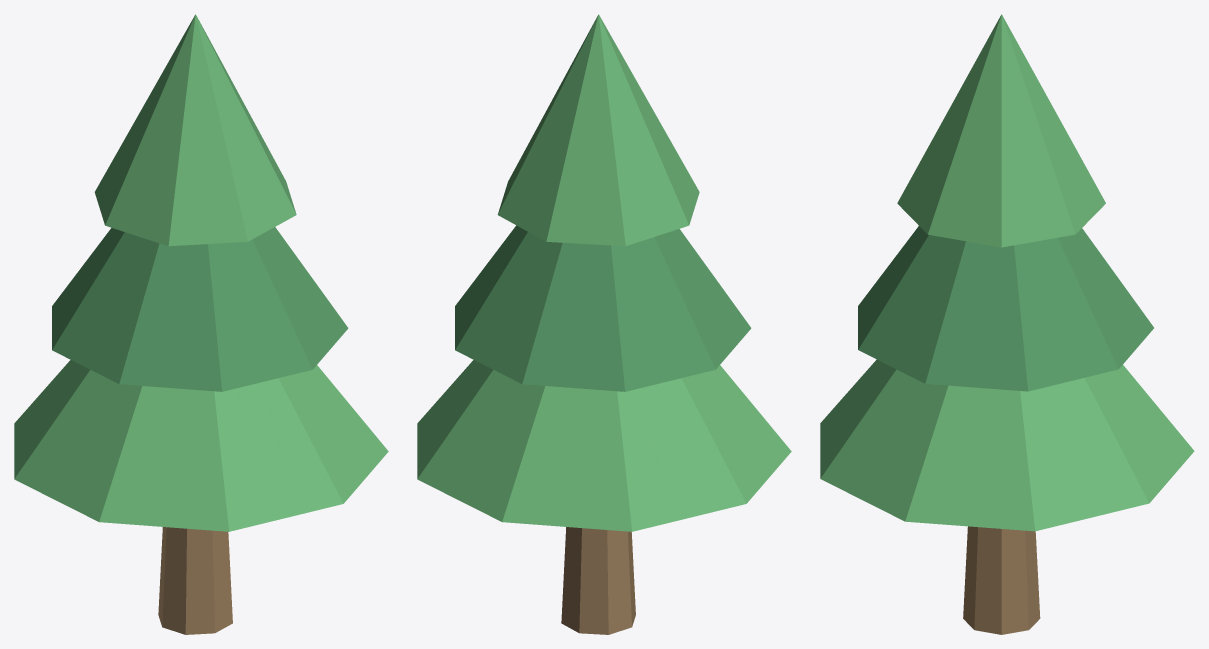
The model's file is pine_tree.glb.
The picture shows the model from 3 angles, left to right: view 1: azimuth 30°, elevation 25°; view 2: azimuth 150°, elevation 25°; view 3: azimuth 270°, elevation 25°; orthographic projection.
Visible parts, largest first — view 1: TreeTrunk; view 2: TreeTrunk; view 3: TreeTrunk.
Boxes of the visible parts, x1,y1,x2,y2 form: TreeTrunk: (14,14,388,634); TreeTrunk: (417,14,791,634); TreeTrunk: (820,14,1194,634).
Size of the model in its own units: 2.36 by 4.15 by 2.33.
